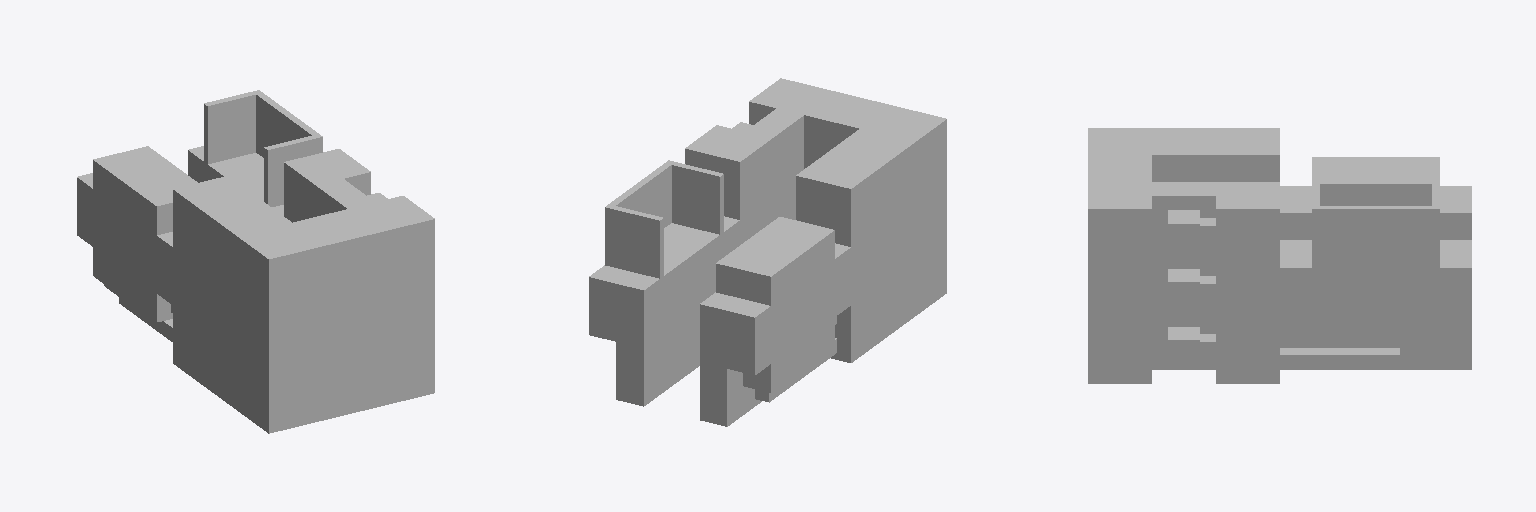
File: excavator.obj
3 views of the same model, side by side, from view 1: azimuth 30°, elevation 25°; view 2: azimuth 150°, elevation 25°; view 3: azimuth 270°, elevation 25° (orthographic).
Parts seen in each view (by area): view 1: excavator; view 2: excavator; view 3: excavator.
Part boxes in pixels (bbox=[...]): excavator: bbox=[77, 90, 434, 433]; excavator: bbox=[589, 78, 946, 426]; excavator: bbox=[1088, 128, 1471, 383].
Size of the model in its own units: 3 by 3 by 6.